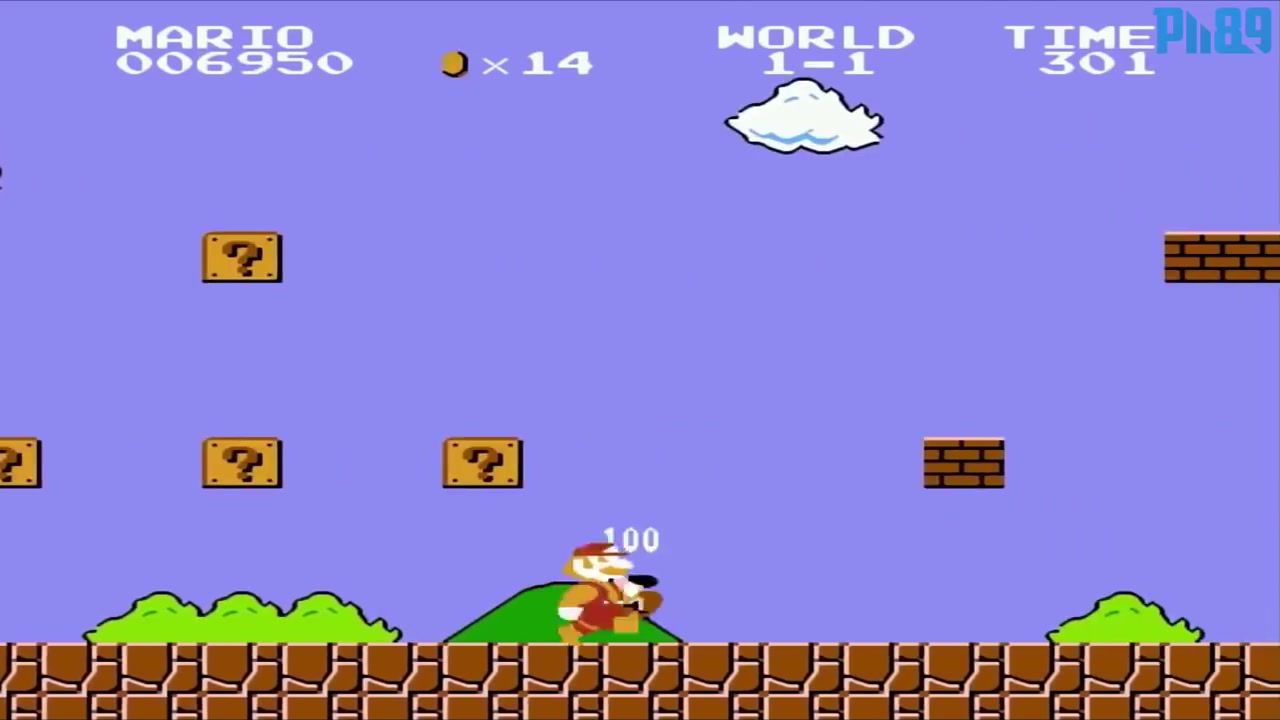mario: (548, 530, 652, 643)
